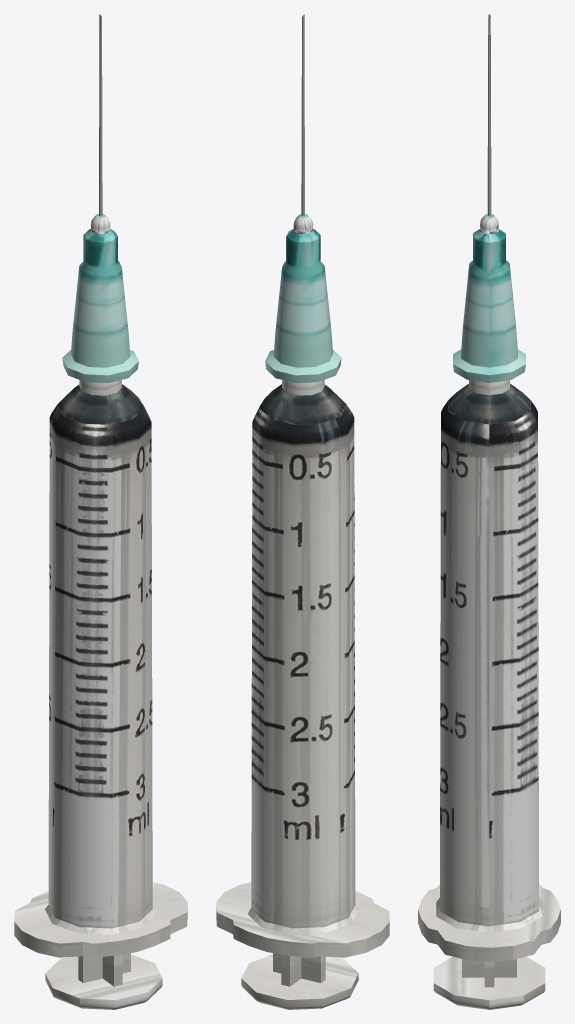
Rendered from Syringe.fbx.
3 renders of one model, left to right at view 1: azimuth 30°, elevation 25°; view 2: azimuth 150°, elevation 25°; view 3: azimuth 270°, elevation 25°, orthographic.
Visible parts, largest first — view 1: Main, Piston; view 2: Main, Piston; view 3: Main, Piston.
Boxes of the visible parts, x1=… form: Main: x1=14, y1=14, x2=187, y2=957; Piston: x1=45, y1=953, x2=162, y2=1009; Main: x1=216, y1=14, x2=389, y2=957; Piston: x1=241, y1=953, x2=358, y2=1009; Main: x1=418, y1=14, x2=560, y2=961; Piston: x1=433, y1=956, x2=545, y2=1009.
Size of the model in its own units: 0.000284 by 0.00168 by 0.000223.
